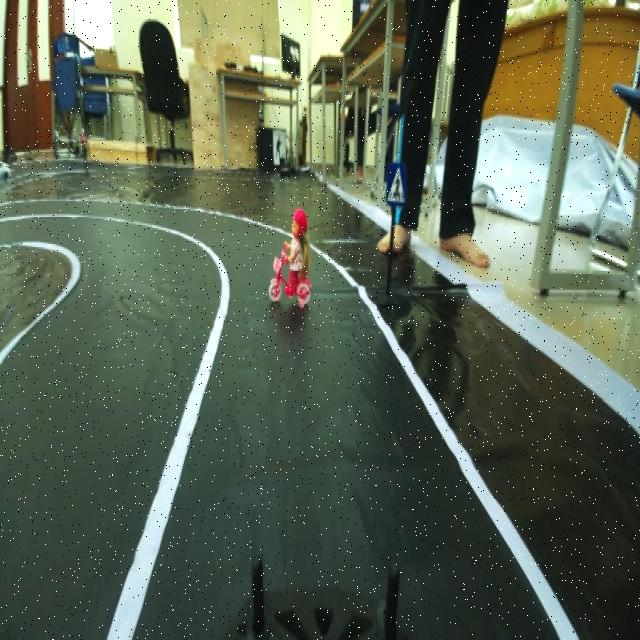crosswalk: (382, 155, 408, 222)
pedestrian: (260, 205, 318, 311)
